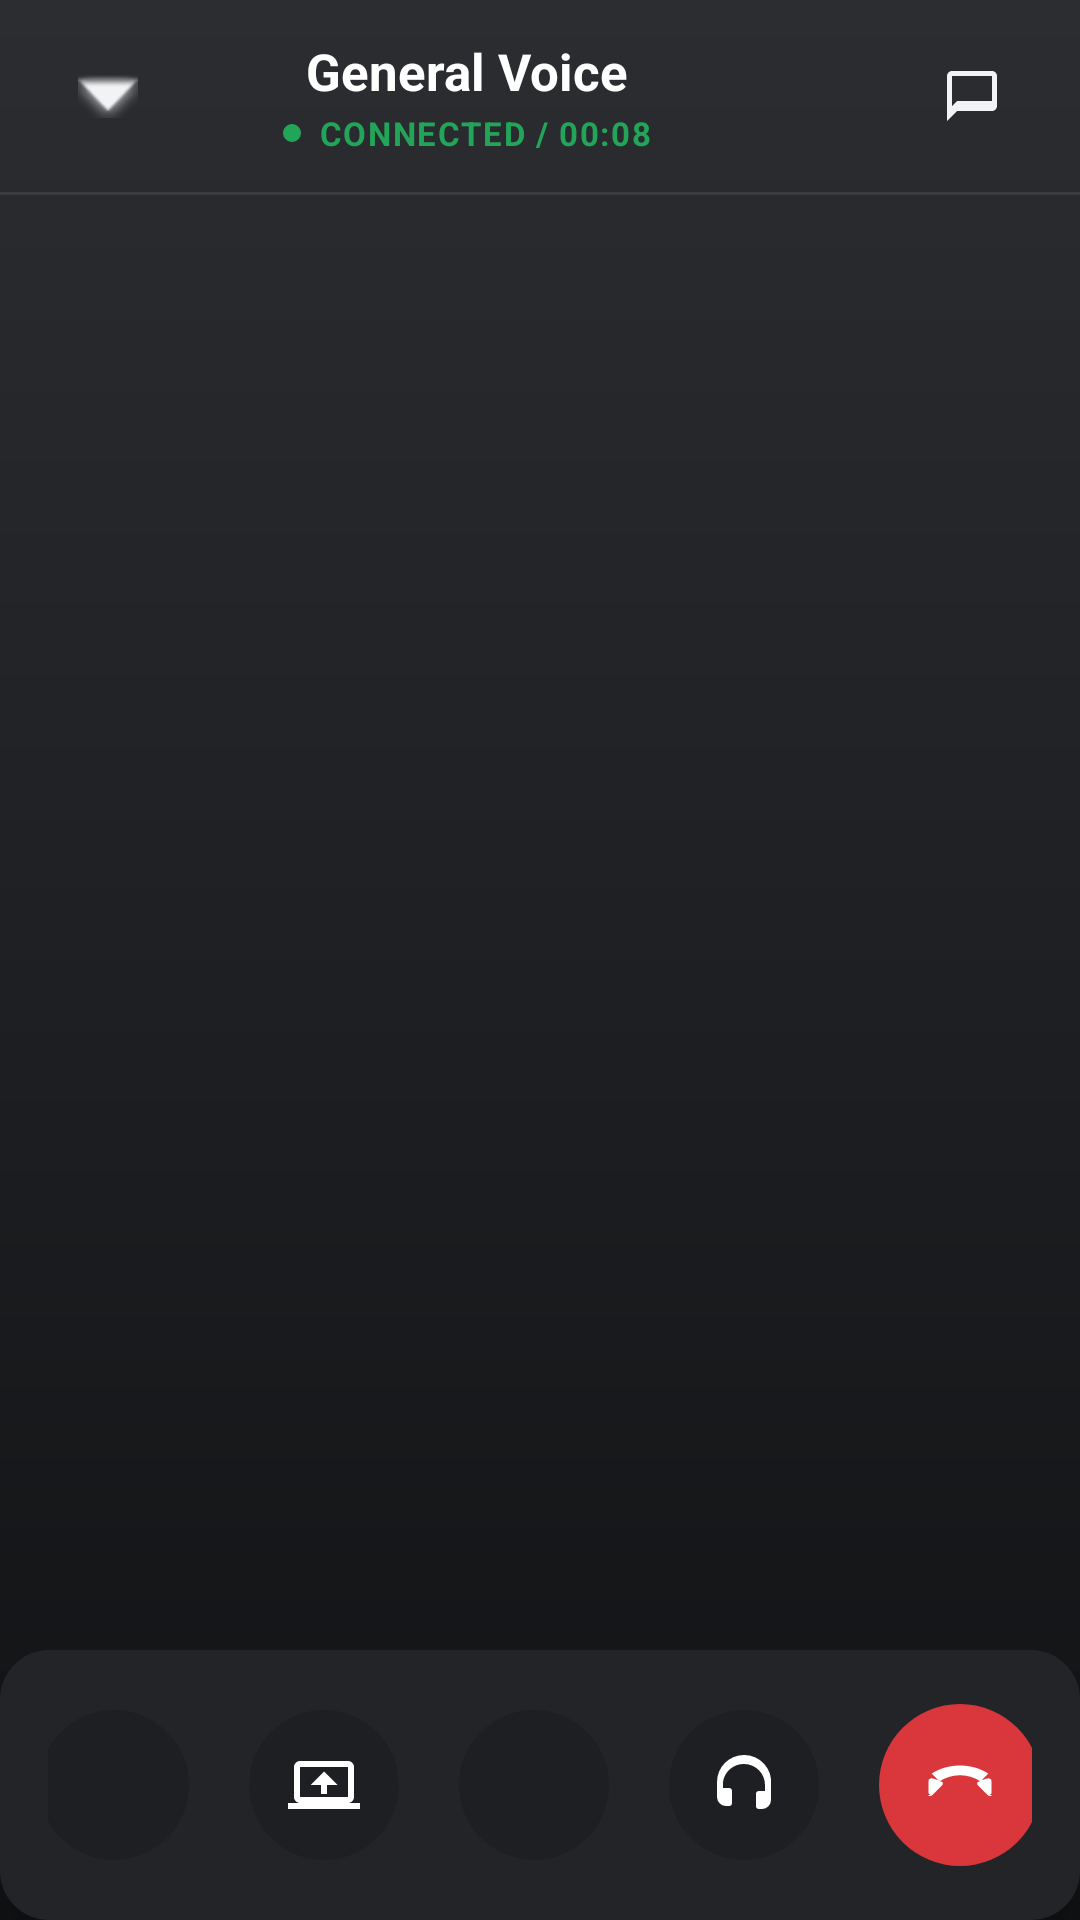

Icons on this 1080px x 1920px Android screen, each with the point to tap as (x,y):
arrow down float: (108,96)
voice chat: (972,96)
voice deafen: (744,1782)
voice disconnect: (960,1780)
voice screen share: (324,1785)
